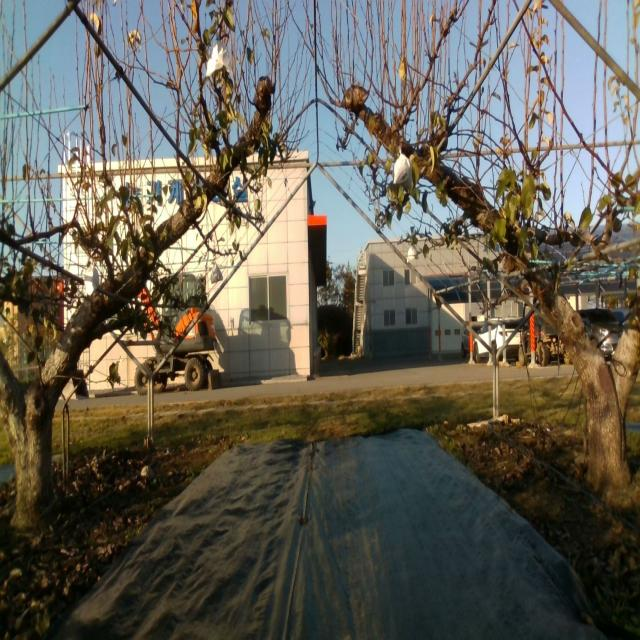pearbags: (206, 41, 231, 76), (393, 153, 412, 191), (84, 258, 100, 297), (210, 262, 223, 282), (406, 242, 418, 263)
